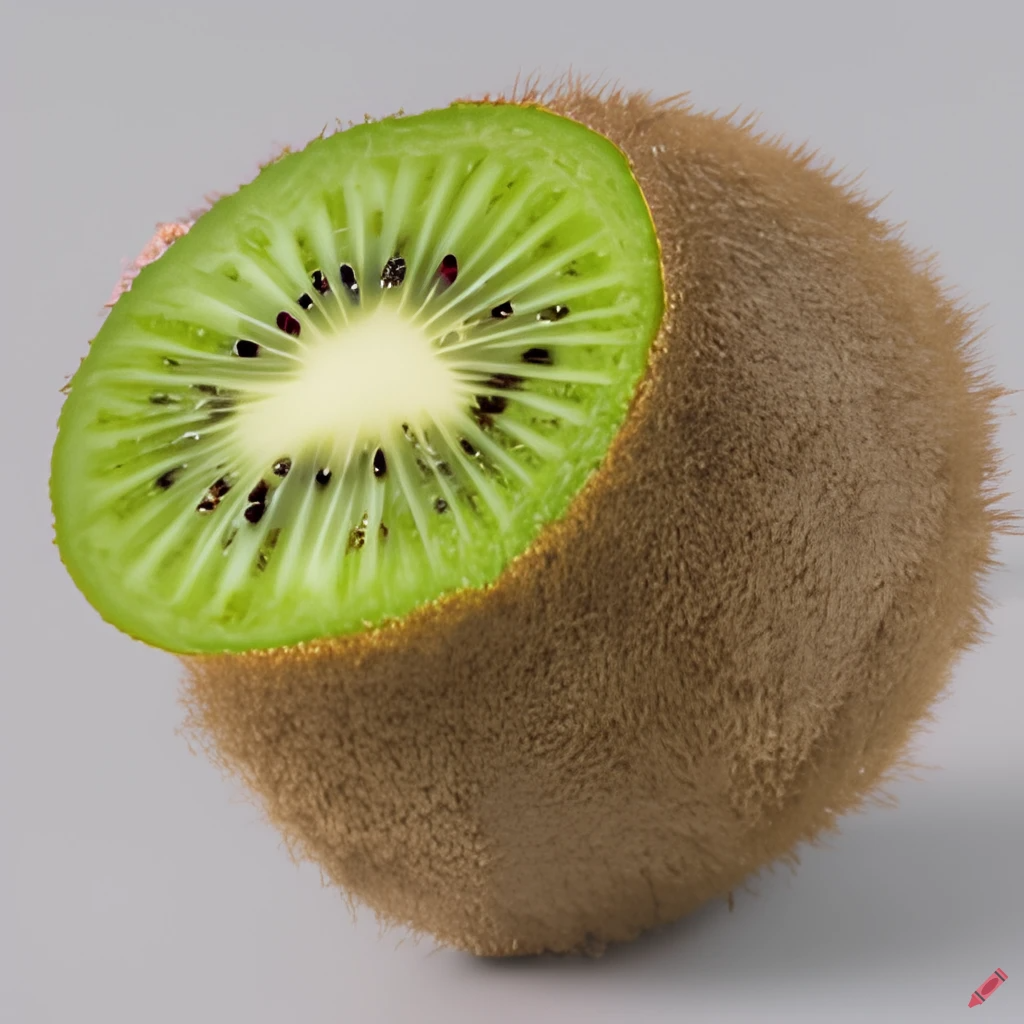Kiwi: (62, 51, 976, 967)
